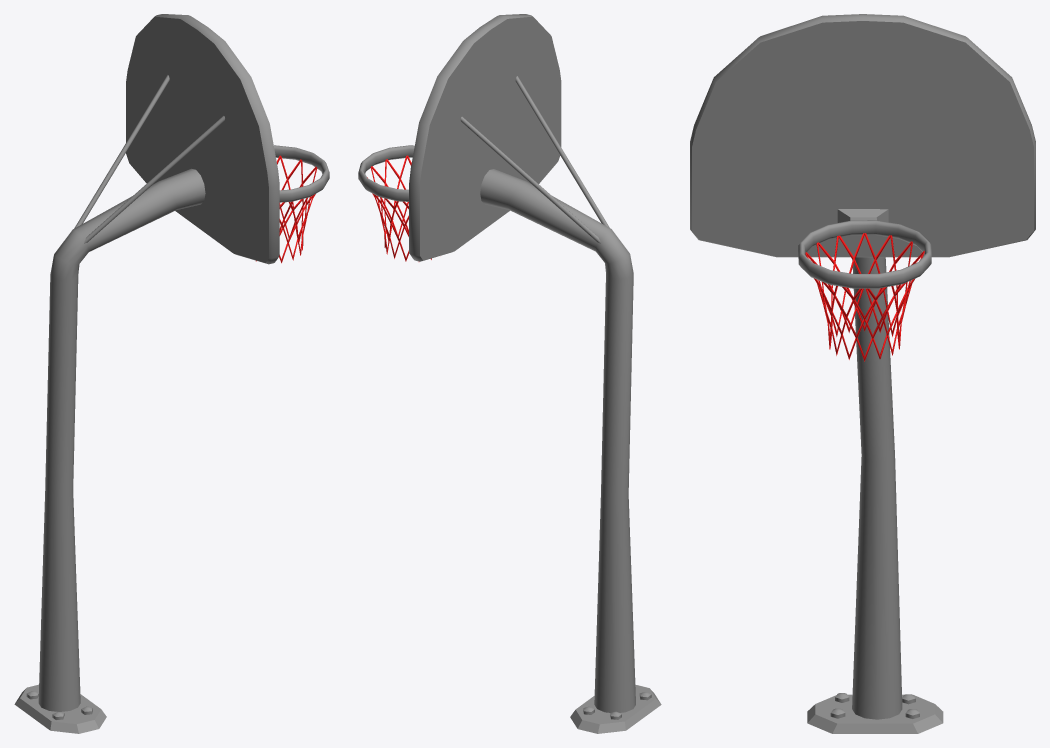
Rendered from Basket.FBX.
3 views of the same model, side by side, from view 1: azimuth 30°, elevation 25°; view 2: azimuth 150°, elevation 25°; view 3: azimuth 270°, elevation 25° (orthographic). The views are drawn at different scales.
Parts seen in each view (by area): view 1: Canasta, NET; view 2: Canasta, NET; view 3: Canasta, NET.
Part boxes in pixels (left/top/right/bottom): Canasta: left=14, top=14, right=329, bottom=733; NET: left=256, top=155, right=317, bottom=263; Canasta: left=358, top=14, right=661, bottom=733; NET: left=367, top=155, right=431, bottom=261; Canasta: left=690, top=14, right=1035, bottom=733; NET: left=805, top=233, right=924, bottom=361.
Size of the model in its own units: 35.22 by 77.36 by 31.02.
